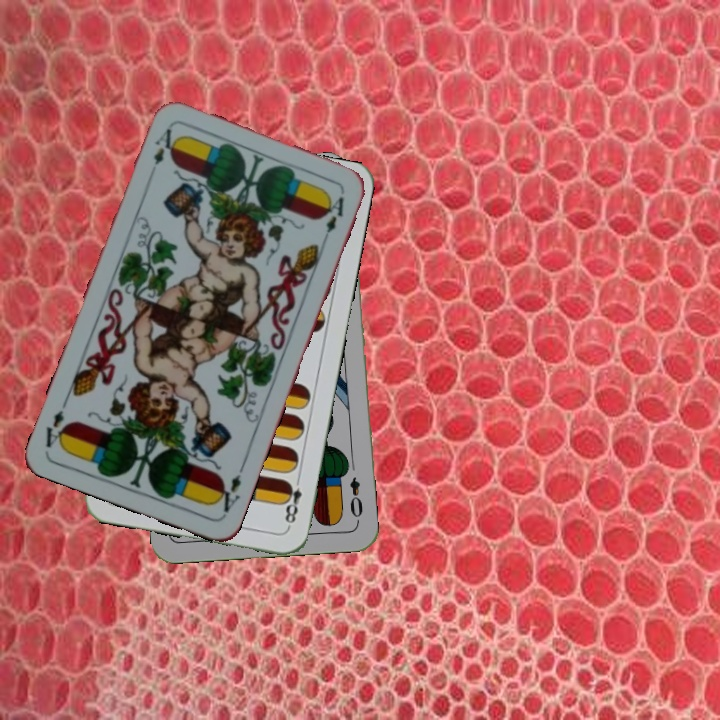E8: (279, 472, 304, 530)
EA: (211, 470, 244, 518), (149, 124, 179, 168)
EO: (346, 473, 366, 525)
